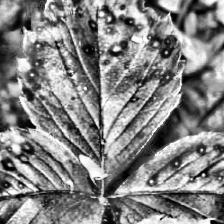Leaf Spot: (16, 0, 186, 194), (107, 130, 224, 224), (0, 126, 104, 224)
